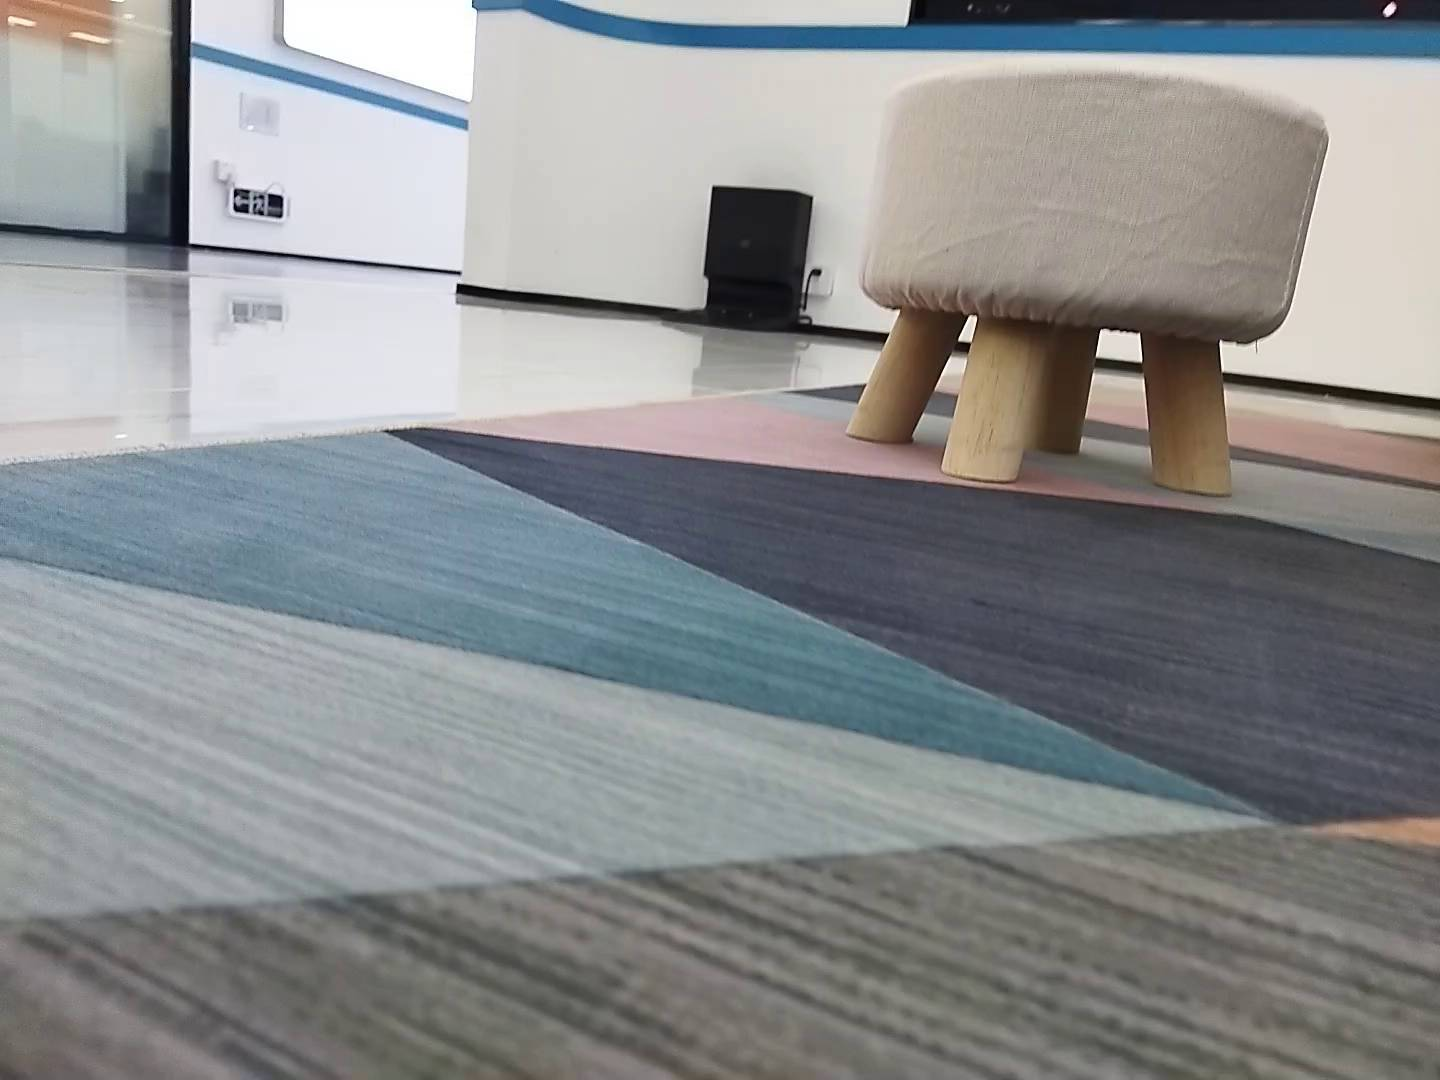dust collecting barrel: (661, 182, 815, 332)
